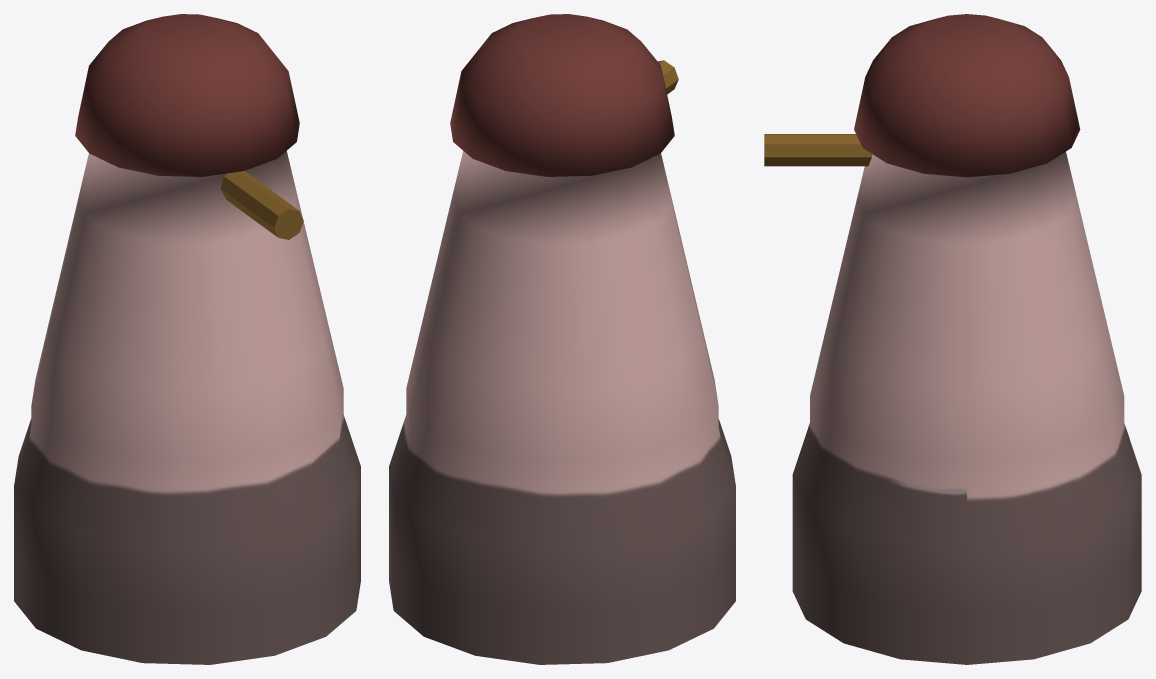
The model's file is windmill_base.fbx.
3 renders of one model, left to right at view 1: azimuth 30°, elevation 25°; view 2: azimuth 150°, elevation 25°; view 3: azimuth 270°, elevation 25°, orthographic.
Visible parts, largest first — view 1: base; view 2: base; view 3: base.
Part boxes in pixels (x1=…): base: x1=14, y1=14, x2=360, y2=664; base: x1=389, y1=14, x2=735, y2=664; base: x1=764, y1=14, x2=1141, y2=664.
Size of the model in its own units: 600 by 1055 by 649.
